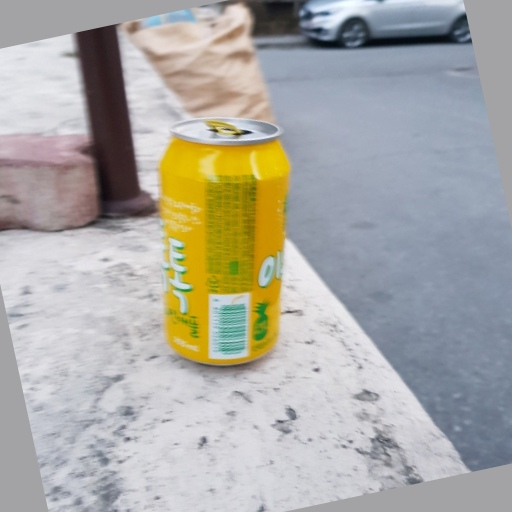Metal_0: (156, 117, 294, 368)
